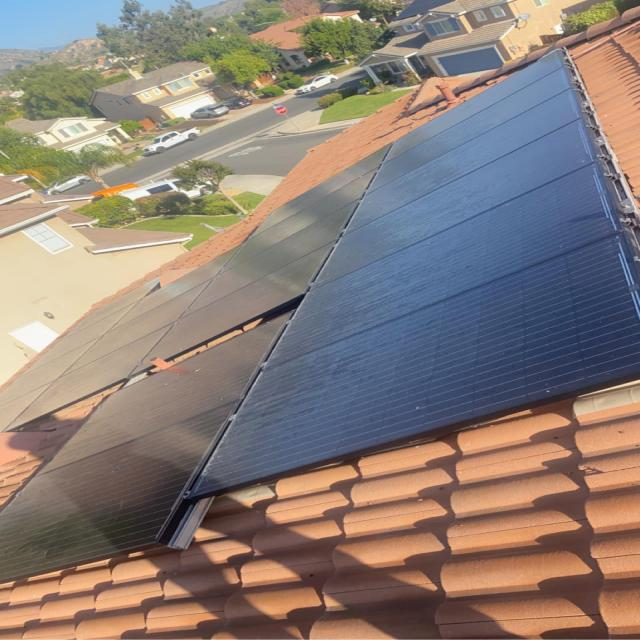dust-solar-panel: (0, 145, 389, 587)
